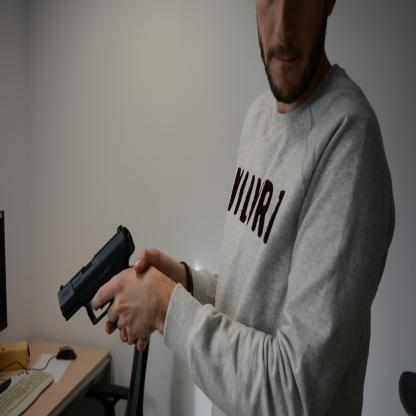pistol: (57, 224, 140, 346)
